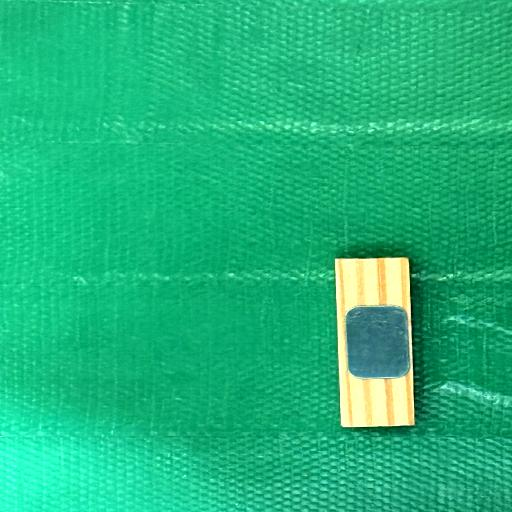objects: (334, 256, 415, 428)
